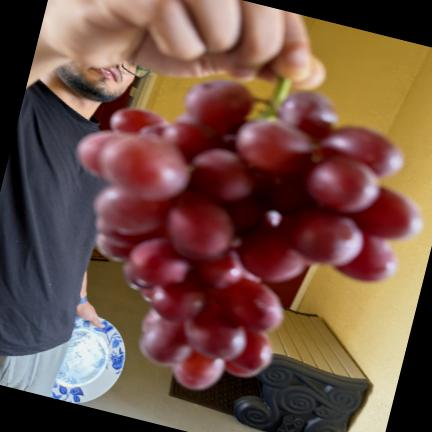grape_cluster: (76, 78, 422, 390)
